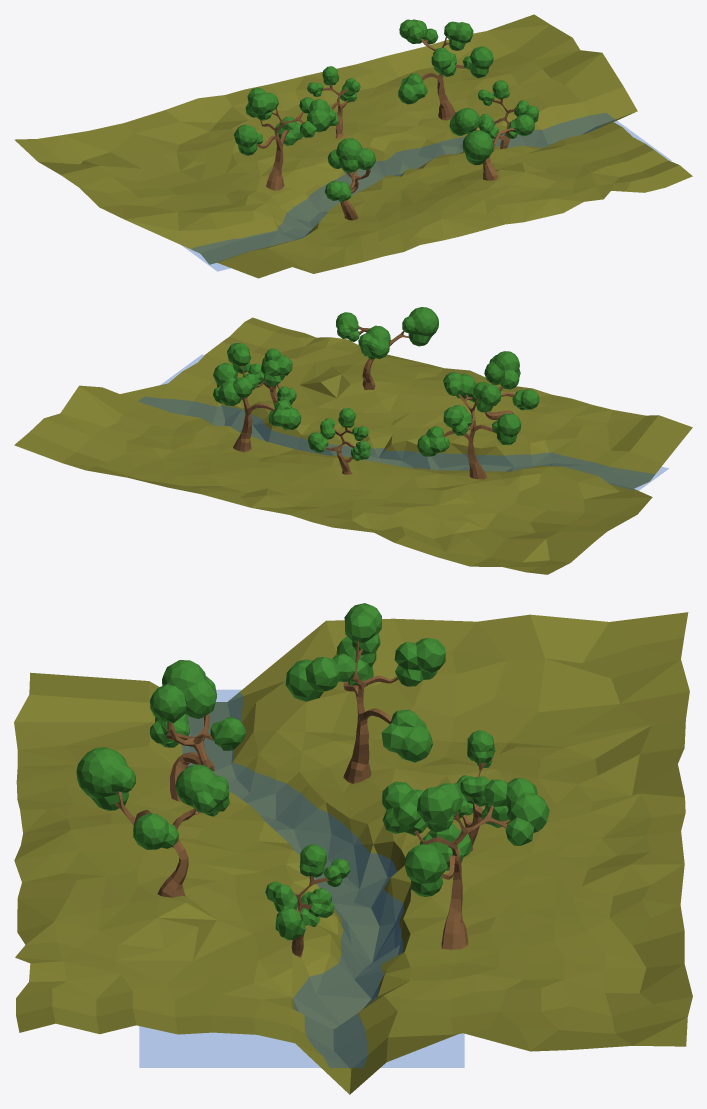
File: forest.glb
3 views of the same model, one above another, from view 1: azimuth 30°, elevation 25°; view 2: azimuth 150°, elevation 25°; view 3: azimuth 270°, elevation 25° (orthographic). The views are drawn at different scales.
Bounding box in the file's own units: 56.57 × 13.35 × 37.09.
